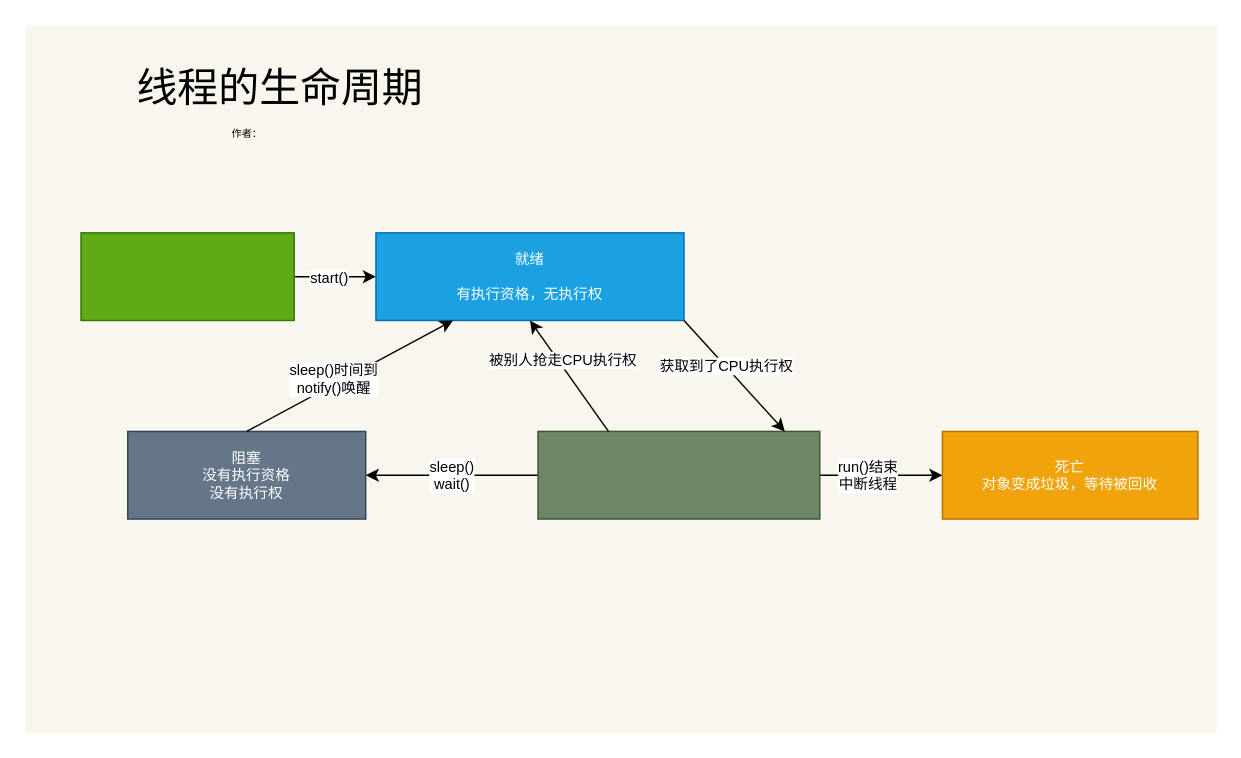
The diagram is 1241 pixels wide and 758 high, and some of its shapes have lost their labels. Here are the shapes that lost their labels. From the top down, the centre of each, then its label:
point 187,275: 新建 创建线程对象
point 678,474: 运行 有执行资格，有执行权
